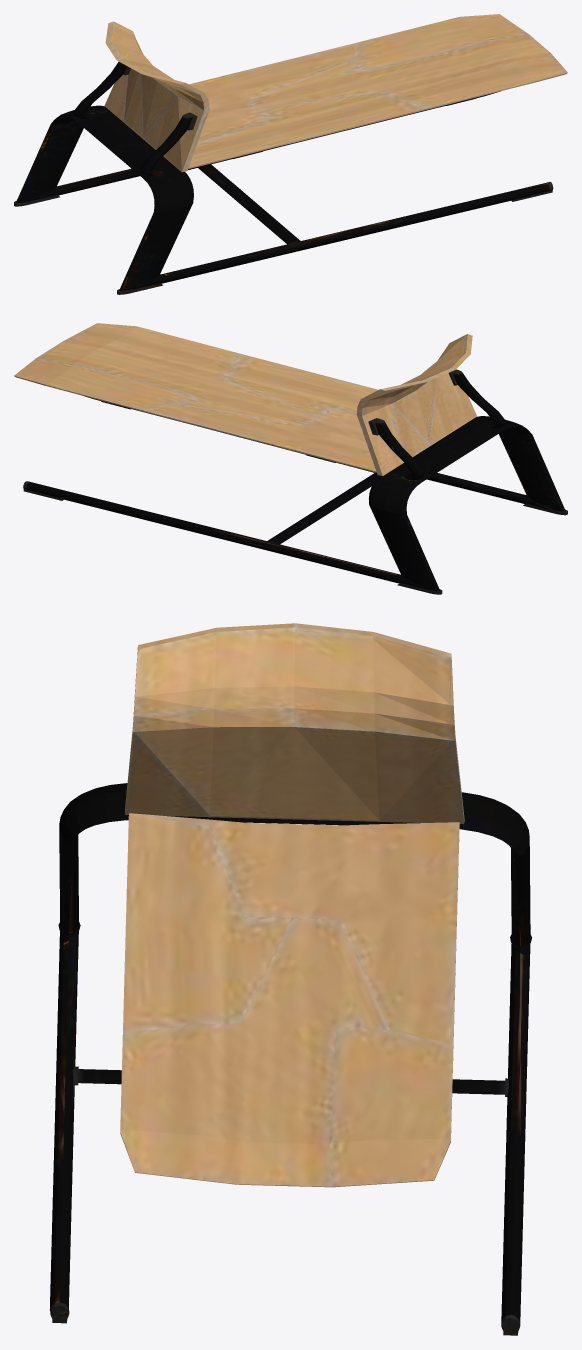
Rendered from chair_19.glb.
The picture shows the model from 3 angles, top to bottom: view 1: azimuth 30°, elevation 25°; view 2: azimuth 150°, elevation 25°; view 3: azimuth 270°, elevation 25°; orthographic projection. The views are drawn at different scales.
Visible parts, largest first — view 1: chair_19; view 2: chair_19; view 3: chair_19.
Part boxes in pixels (x1,y1,x2,y2): chair_19: [14, 14, 567, 294]; chair_19: [14, 323, 567, 594]; chair_19: [49, 623, 531, 1335].
Bounding box in the file's own units: 2.57 × 0.91 × 1.15.
1 material, 1 textured.
